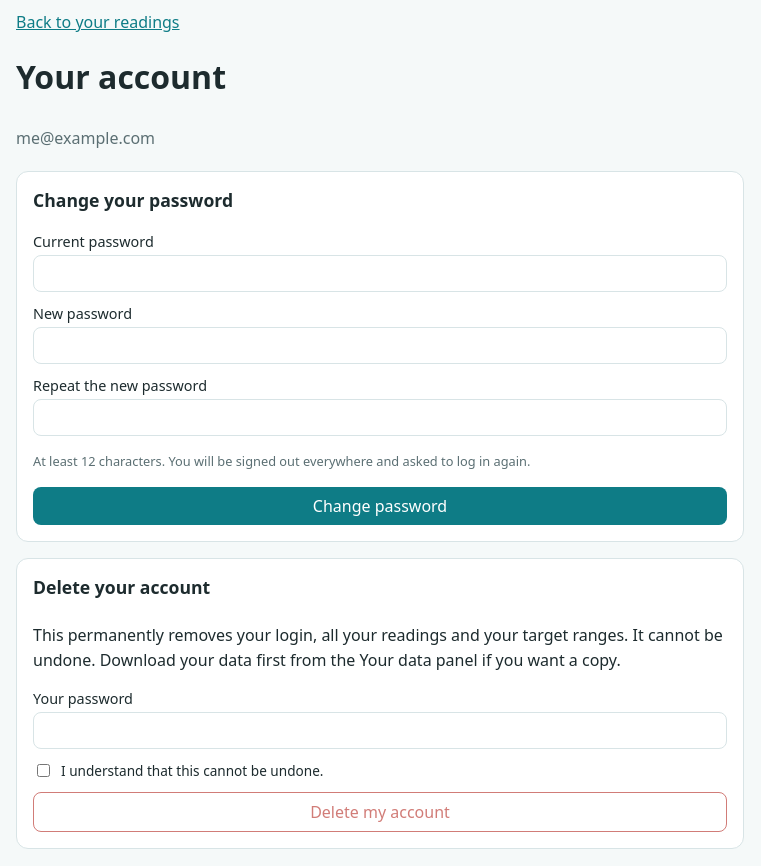
AccountPage: deleting the account › keeps the delete button off until the password is typed and the box is ticked
Expected: the button "Delete my account" is disabled, [33,792,727,832]
Type "Old-Passw0rd-12345" into the password field labelled "Your password" at (380, 730), box [33,712,727,749]
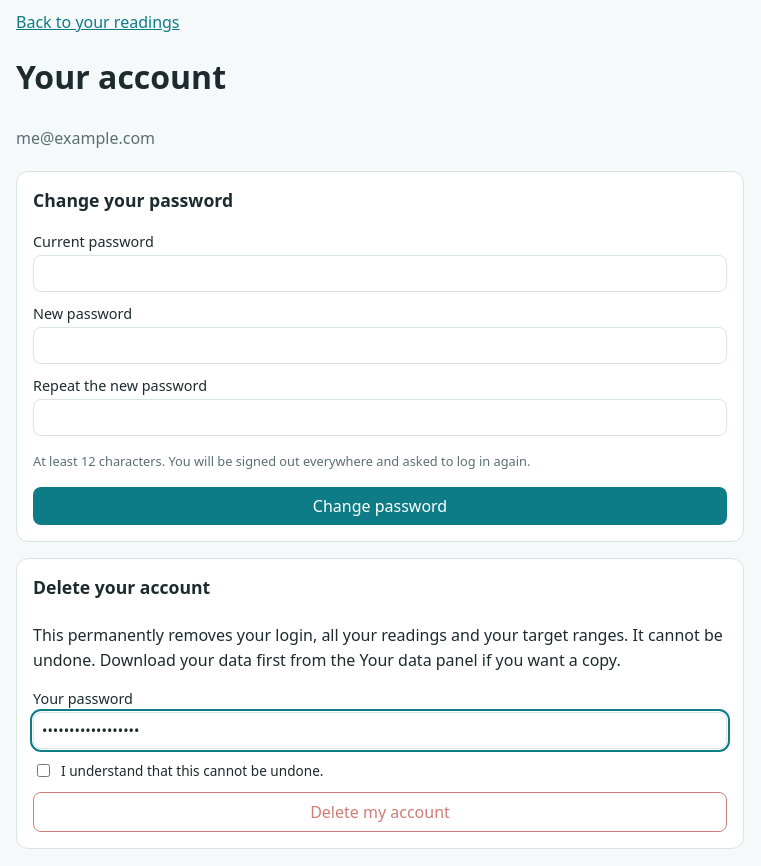
Expected: the button "Delete my account" is disabled, [33,792,727,832]
Click the checkbox at (44, 771), box [37,764,50,777]
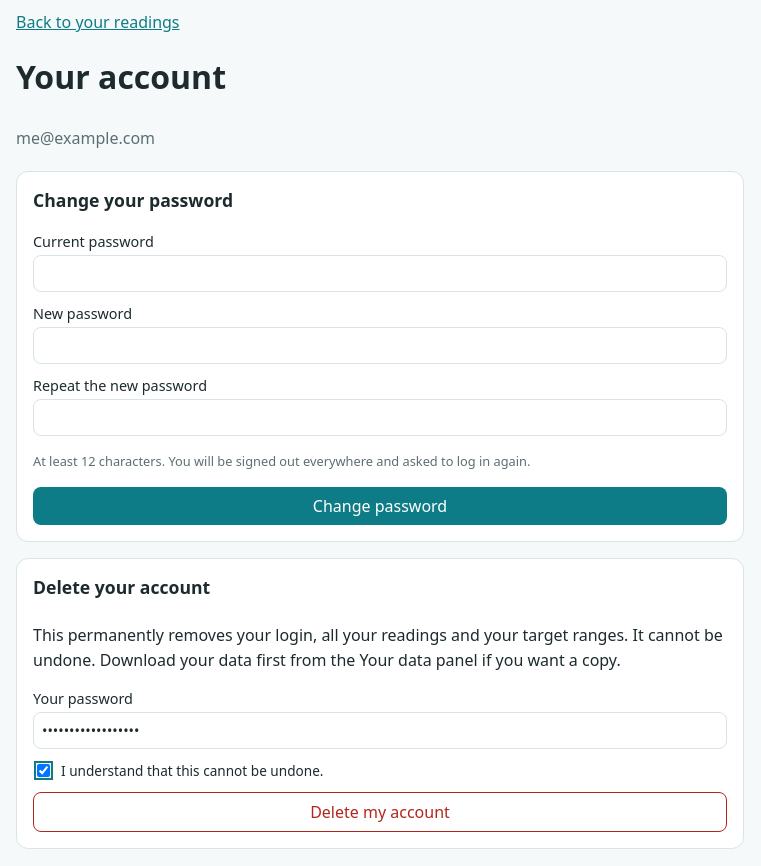
Result: the button "Delete my account" is enabled at [33,792,727,832]
